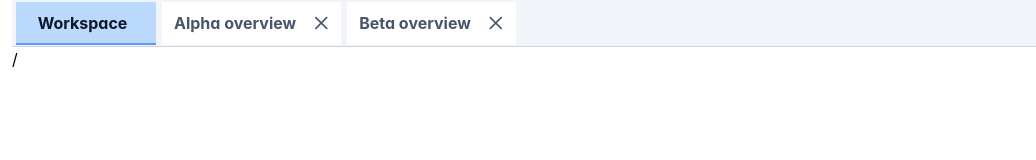
Scenario: TabBar › navigates when a route-backed tab is clicked.
The image size is (1036, 160).
Click the button "Alpha overview" at (235, 23), box [174,6,296,41]
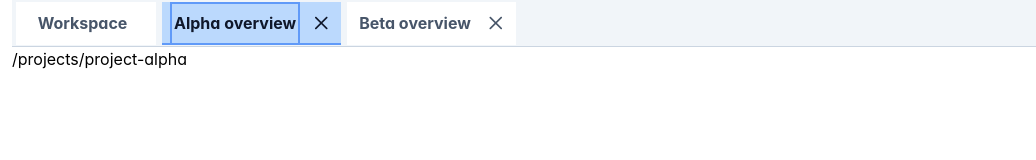
Expected: the text named "Current route" reads "/projects/project-alpha", [12,48,187,68]
